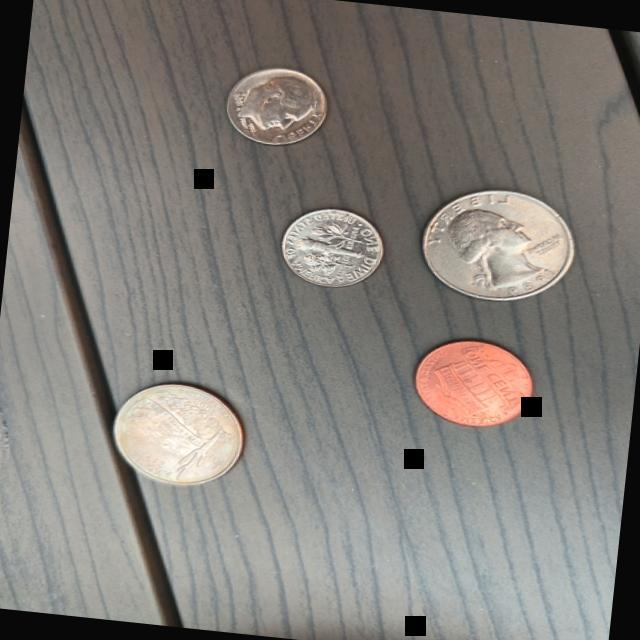Dime: (218, 60, 332, 150), (276, 202, 386, 292)
Penny: (408, 333, 539, 433)
Quarter: (414, 179, 581, 309), (106, 374, 250, 492)
